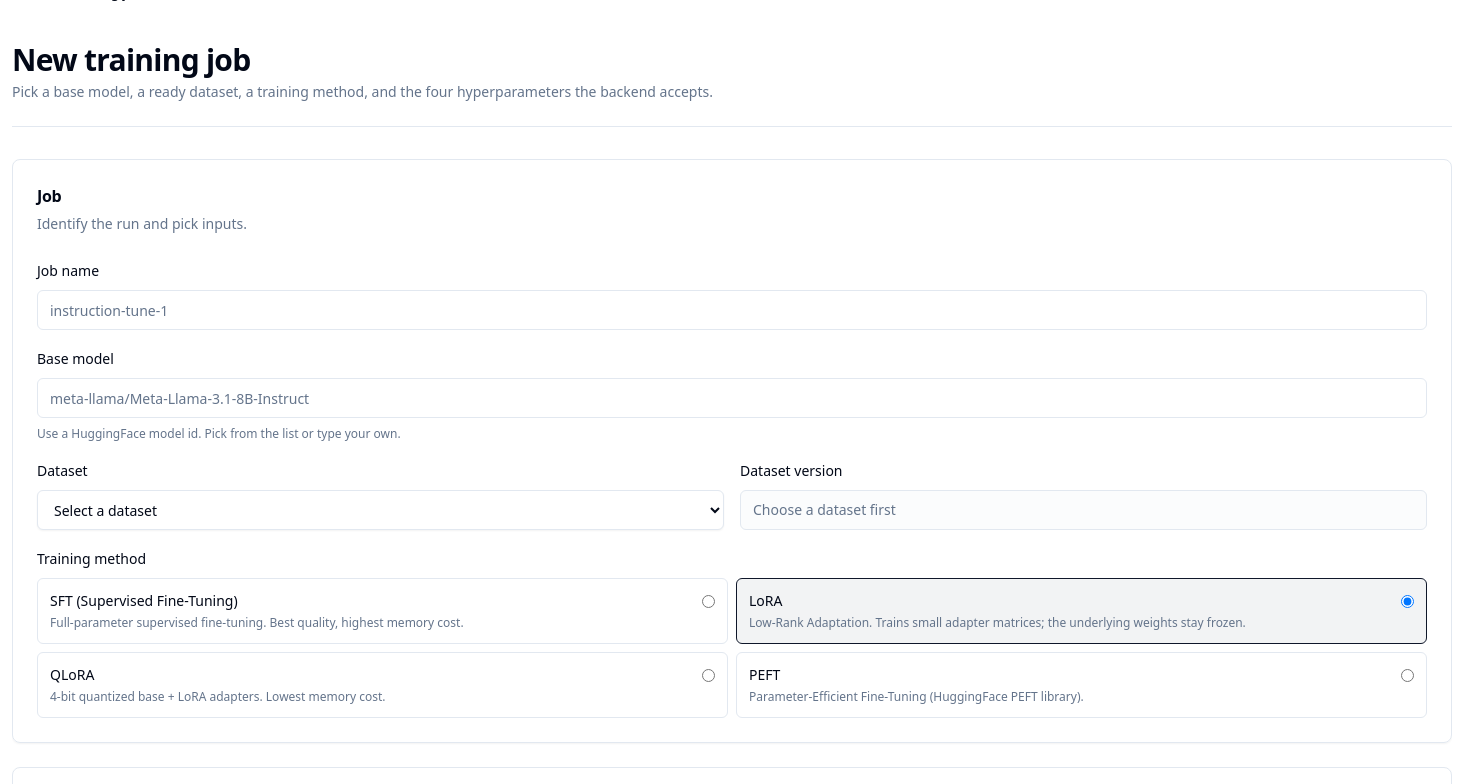
Test: NewTrainingJobPage › surfaces a backend validation error inline
The width and height of the screenshot is (1464, 784).
In the field labelled "Job name": (732, 310) x1=37 y1=290 x2=1427 y2=330, type "broken"
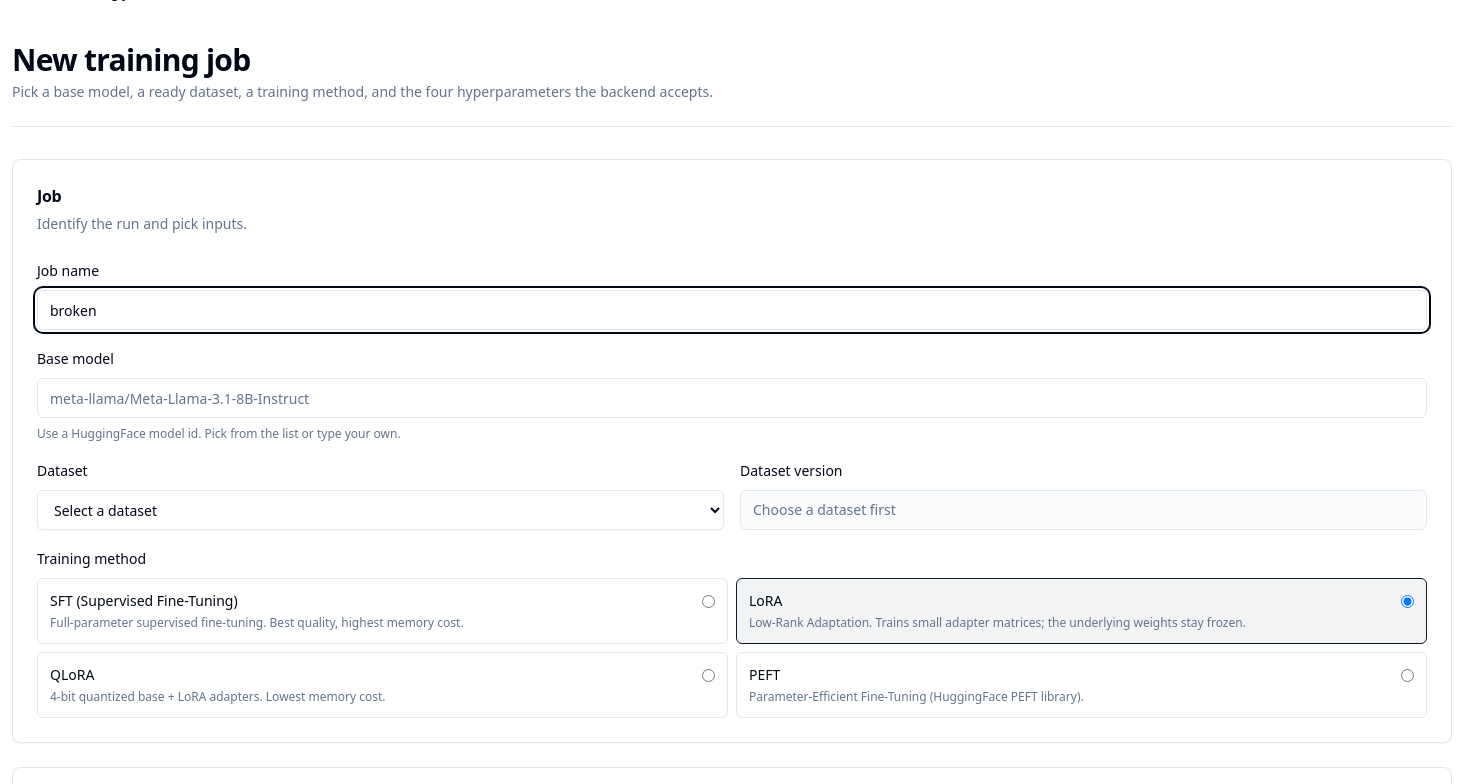
In the field labelled "Base model": (732, 398) x1=37 y1=378 x2=1427 y2=418, type "x"
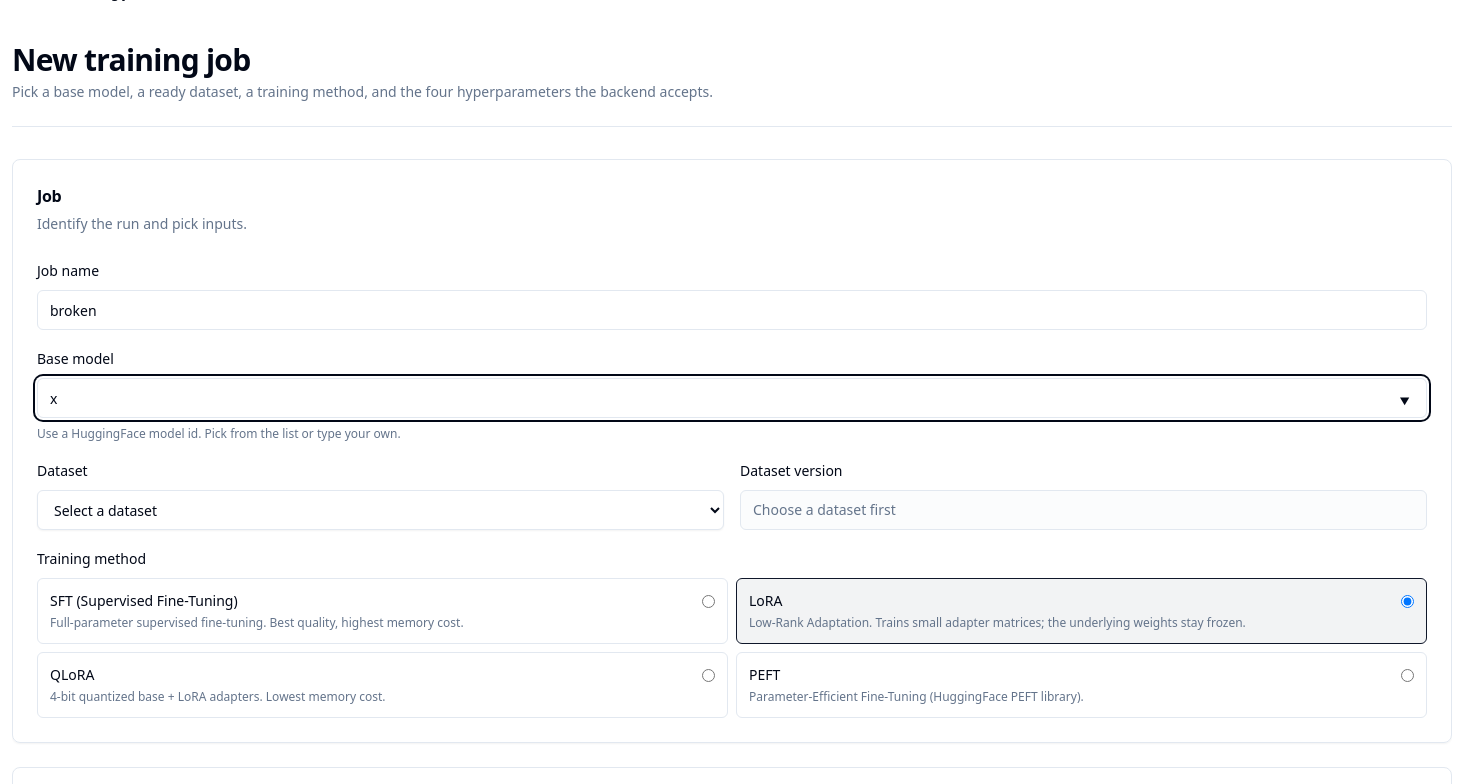
Select "ready-corpus" in the dropdown labelled "Dataset": (380, 510) x1=37 y1=490 x2=724 y2=530
(page scrolled)
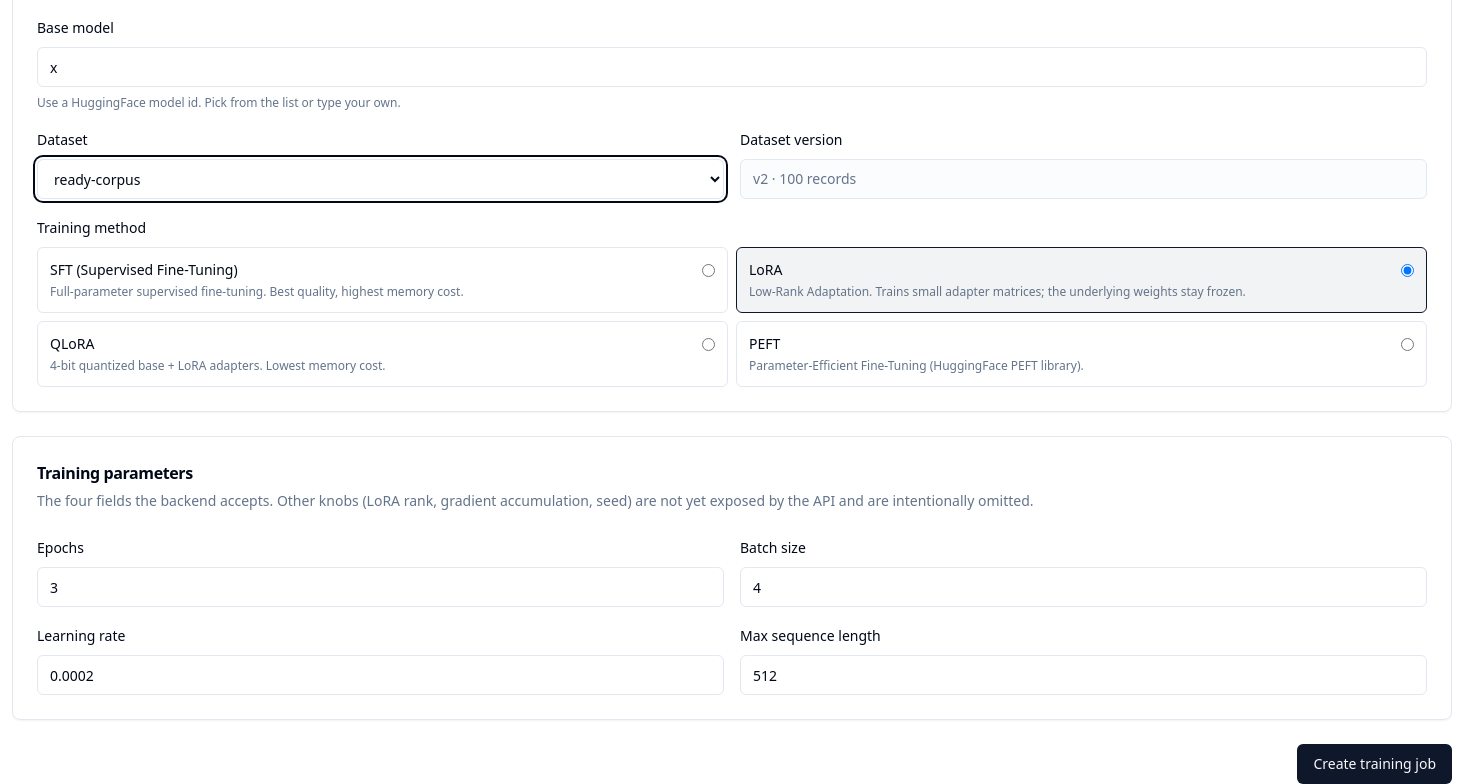
Expected: the text "v2 · 100 records" is shown, x1=753 y1=169 x2=856 y2=189
Click the button "Create training job": (1375, 764) x1=1297 y1=744 x2=1452 y2=783
(page scrolled)
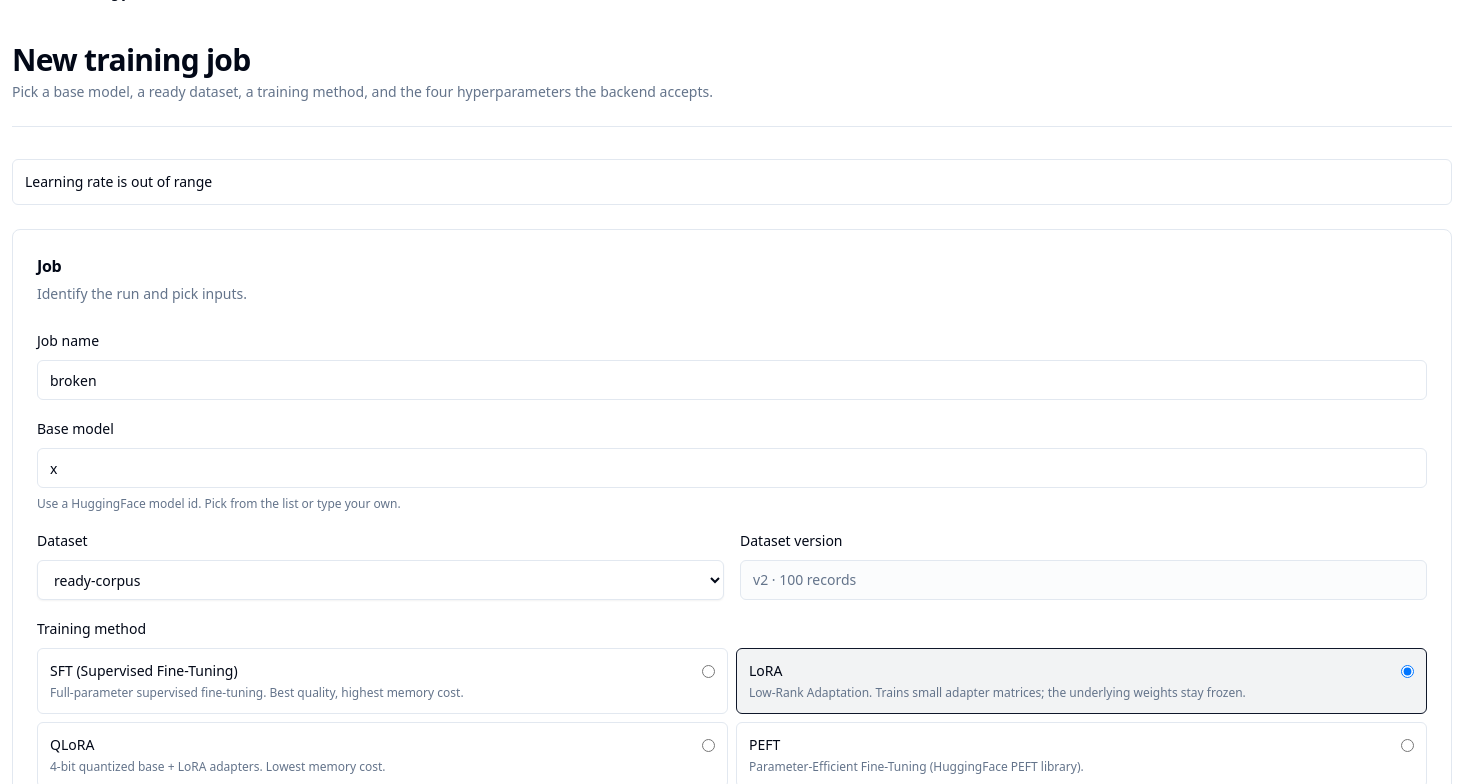
Expected: the text "Learning rate is out of range" is shown, x1=12 y1=159 x2=1452 y2=205
